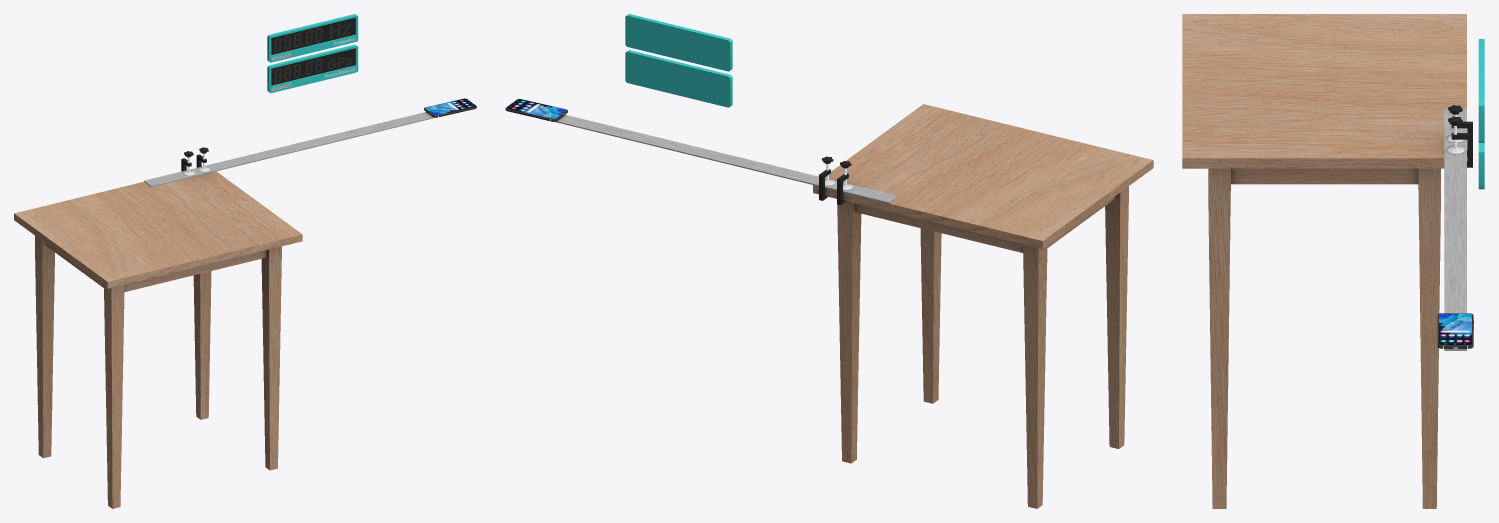
File: Aluminum_bar_20cm_80cm.glb
3 renders of one model, left to right at view 1: azimuth 30°, elevation 25°; view 2: azimuth 150°, elevation 25°; view 3: azimuth 270°, elevation 25°, orthographic. The views are drawn at different scales.
Parts seen in each view (by area): view 1: MESA, PASAMANO-ALUMINIO_20_80, CAJA DISPLAY GPa, CAJA DISPLAY Hz, SMARTPHONE_20_80; view 2: MESA, CAJA DISPLAY Hz, CAJA DISPLAY GPa, PASAMANO-ALUMINIO_20_80, SMARTPHONE_20_80; view 3: MESA, PASAMANO-ALUMINIO_20_80, SMARTPHONE_20_80, CAJA DISPLAY Hz.
Part boxes in pixels (x1,y1,x2,y2): MESA: (14, 171, 302, 508); PASAMANO-ALUMINIO_20_80: (144, 112, 435, 186); CAJA DISPLAY GPa: (267, 44, 358, 93); CAJA DISPLAY Hz: (267, 14, 358, 62); SMARTPHONE_20_80: (424, 98, 476, 117); MESA: (813, 104, 1153, 508); CAJA DISPLAY Hz: (625, 14, 732, 71); CAJA DISPLAY GPa: (625, 50, 732, 107); PASAMANO-ALUMINIO_20_80: (555, 114, 898, 203); SMARTPHONE_20_80: (505, 99, 567, 121); MESA: (1182, 14, 1466, 508); PASAMANO-ALUMINIO_20_80: (1444, 108, 1466, 350); SMARTPHONE_20_80: (1437, 313, 1473, 348); CAJA DISPLAY Hz: (1478, 39, 1484, 142).
Size of the model in its own units: 1.4 by 1.03 by 0.531.
94 materials, 5 textured.
